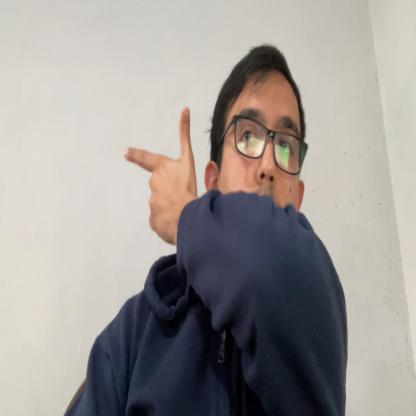G: (125, 106, 196, 244)
